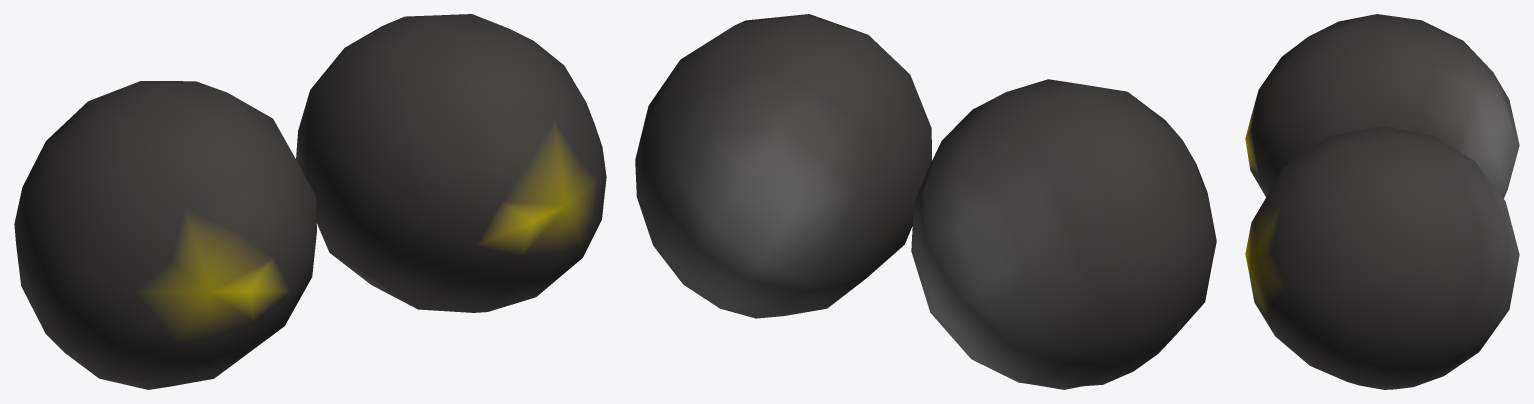
The model's file is IrisEyes.fbx.
3 renders of one model, left to right at view 1: azimuth 30°, elevation 25°; view 2: azimuth 150°, elevation 25°; view 3: azimuth 270°, elevation 25°, orthographic. The views are drawn at different scales.
Visible parts, largest first — view 1: IrisEyes; view 2: IrisEyes; view 3: IrisEyes.
Boxes of the visible parts, x1,y1,x2,y2 form: IrisEyes: [14, 14, 606, 389]; IrisEyes: [635, 14, 1216, 389]; IrisEyes: [1245, 14, 1519, 389].
Size of the model in its own units: 20.09 by 9.82 by 10.43.
